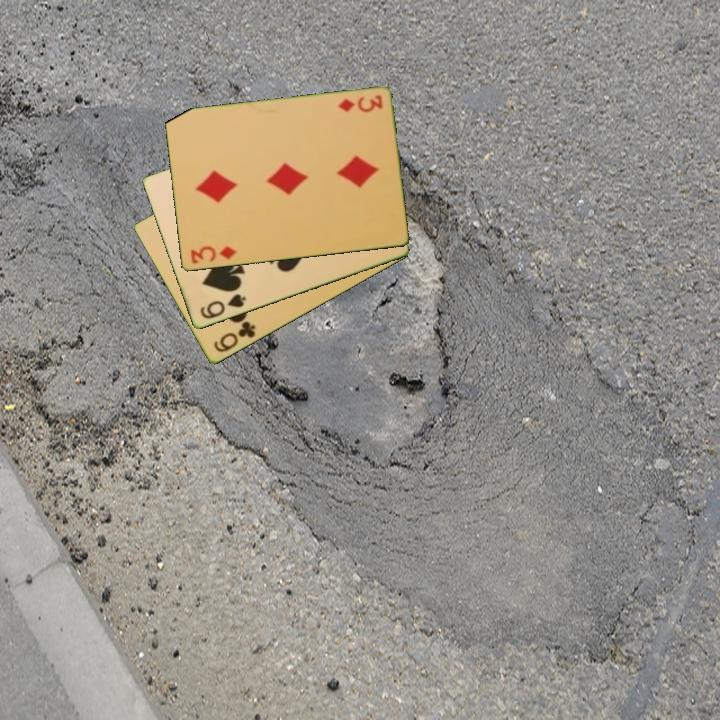3d: (187, 243, 239, 267), (334, 92, 385, 115)
6c: (210, 318, 258, 356)
6s: (196, 290, 249, 322)
